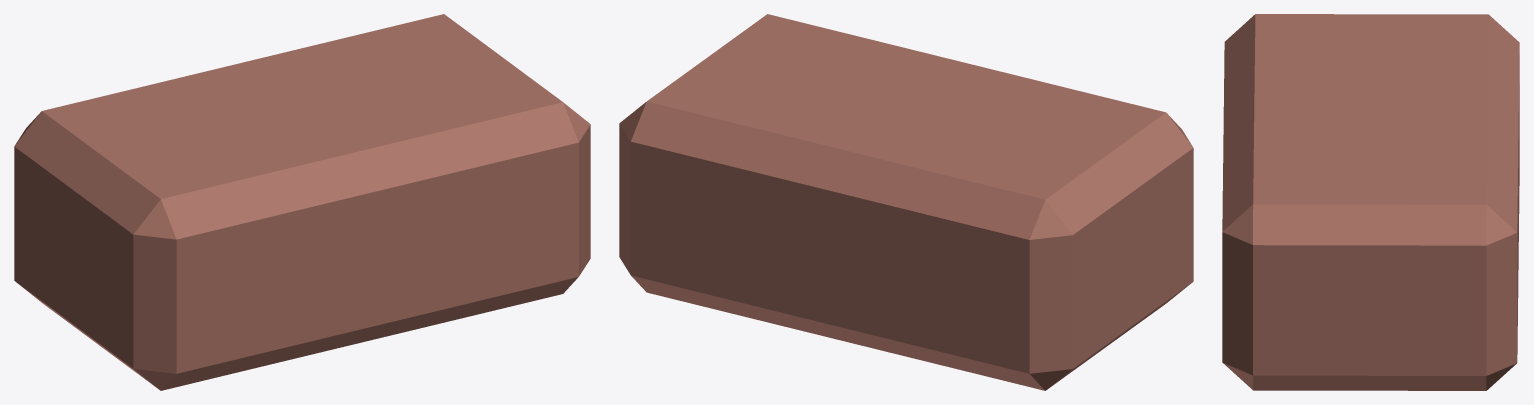
The model's file is claybrick.fbx.
The picture shows the model from 3 angles, left to right: view 1: azimuth 30°, elevation 25°; view 2: azimuth 150°, elevation 25°; view 3: azimuth 270°, elevation 25°; orthographic projection. The views are drawn at different scales.
Visible parts, largest first — view 1: clay_brick:pCube50; view 2: clay_brick:pCube50; view 3: clay_brick:pCube50.
Boxes of the visible parts, x1,y1,x2,y2 form: clay_brick:pCube50: (14,14,590,390); clay_brick:pCube50: (619,14,1193,390); clay_brick:pCube50: (1222,14,1519,390).
Size of the model in its own units: 0.5521 by 0.2213 by 0.3201.
